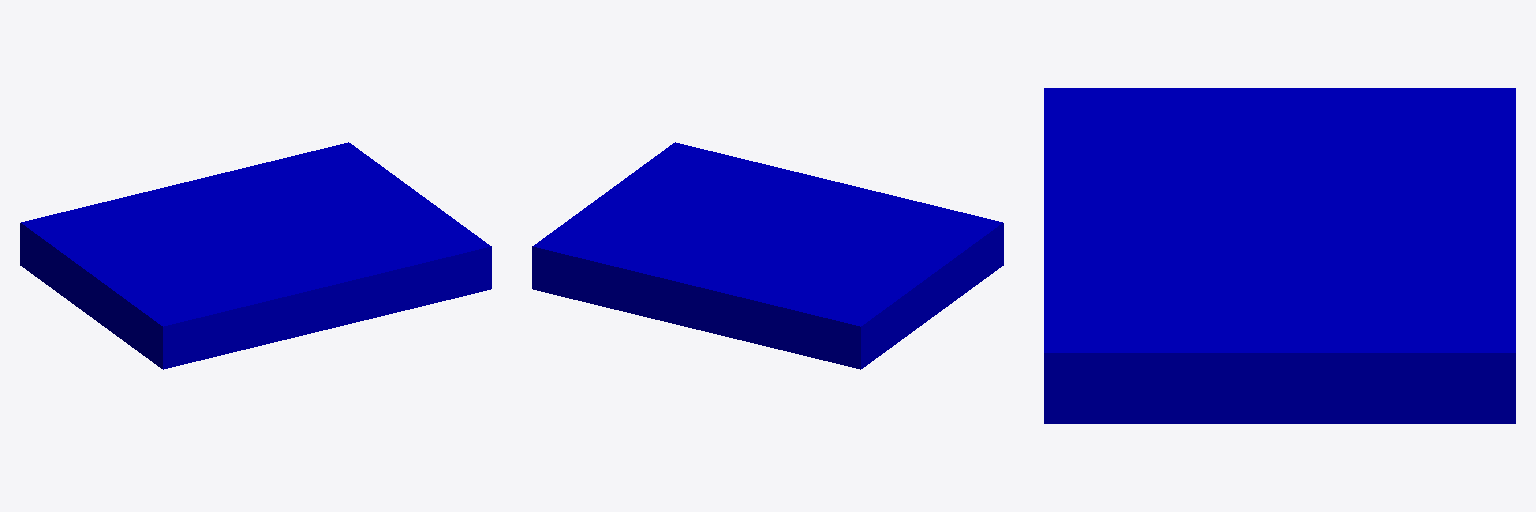
URDF robot description (myfirst):
<?xml version="1.0"?>
<robot name="myfirst">
  <material name="blue">
    <color rgba="0 0 0.8 1"/>
  </material>
  <link name="base_link">
    <visual>
      <geometry>
        <box size="0.4 0.3 0.05"/>
      </geometry>
      <material name="blue"/>
    </visual>
    <collision>
      <geometry>
        <box size="0.4 0.3 0.05"/>
      </geometry>
    </collision>
  </link>
</robot>

--- Facts derived from the render (not from the file) ---
The picture shows the robot from 3 angles, left to right: view 1: azimuth 30°, elevation 25°; view 2: azimuth 150°, elevation 25°; view 3: azimuth 270°, elevation 25°; orthographic projection.
Robot: myfirst — 1 links, 0 joints (none); root link base_link; default pose: all joints at 0.
Links seen in each view (by area): view 1: base_link; view 2: base_link; view 3: base_link.
Boxes of the visible links, x1,y1,x2,y2 form: base_link: (20, 142, 491, 369); base_link: (532, 142, 1003, 369); base_link: (1044, 88, 1515, 423).
Bounding box of the posed robot: 0.4 × 0.3 × 0.05 m (x, y, z).
Geometry: primitives only (box / cylinder / sphere), no mesh files.